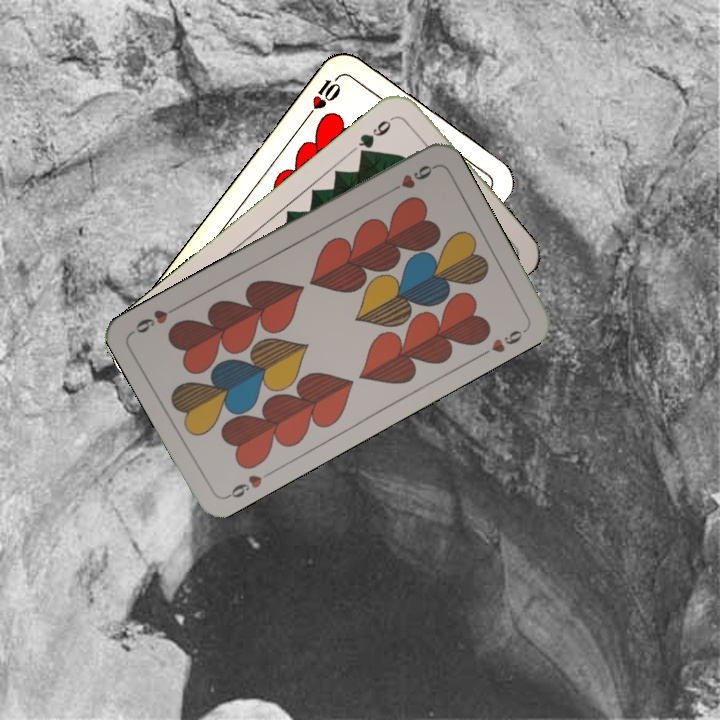G9: (354, 112, 399, 160)
H10: (303, 70, 345, 120)
H9: (383, 161, 438, 197), (221, 466, 275, 502)
